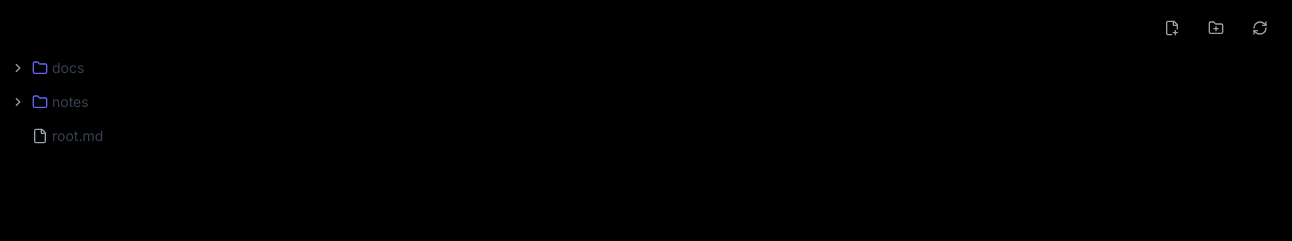
Test: FileTree › rendering › renders error message when actionError occurs
Click the button titled "新建文件".
click(1172, 28)  # box [1152,12,1192,44]
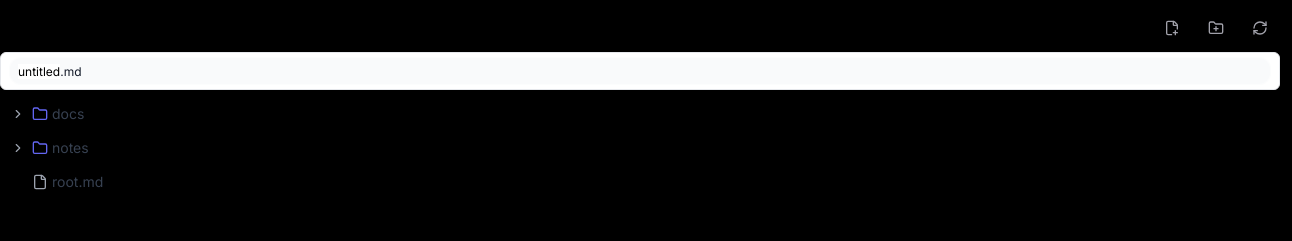
Replace the text in the field with "test.md" at (640, 71), box [9,57,1271,85]
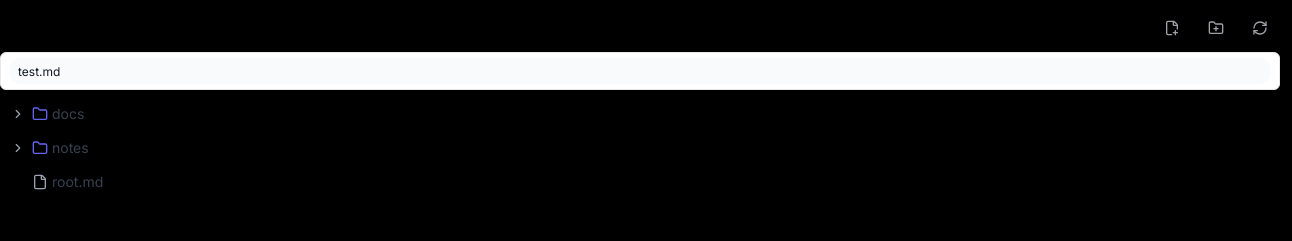
Press Enter in the field, box [9,57,1271,85]
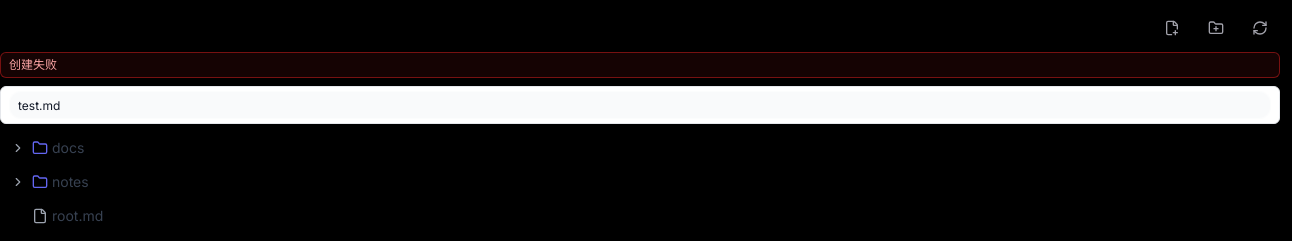
Now the text "创建失败" is shown, box [0,52,1280,78]
